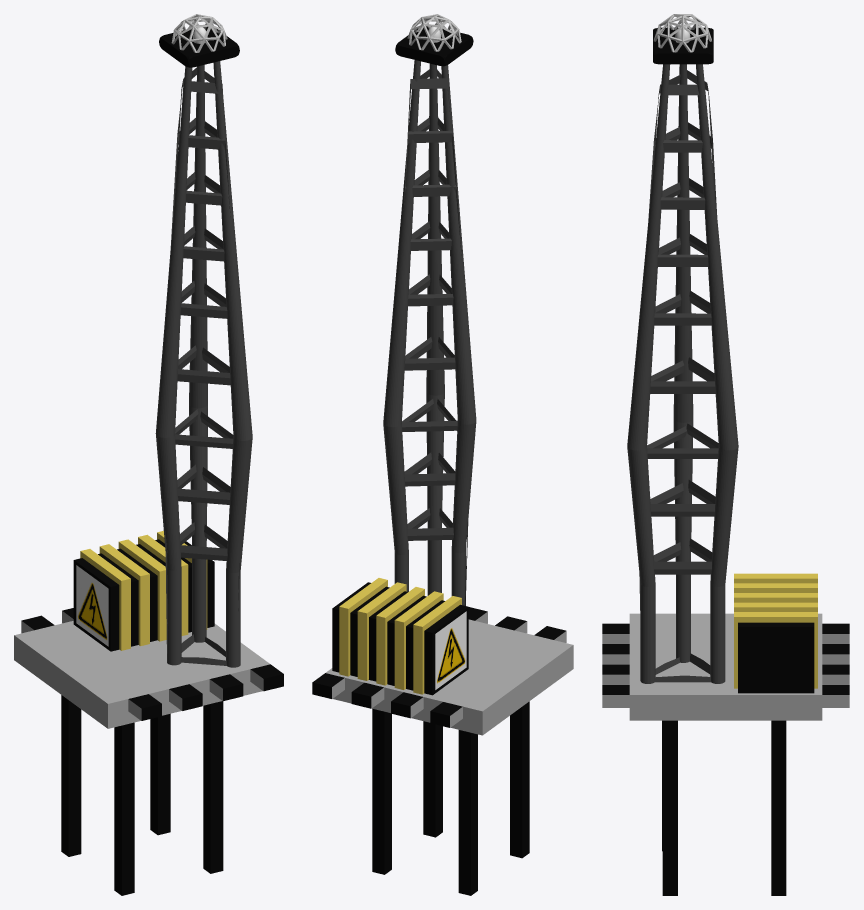
The model's file is tower.glb.
3 renders of one model, left to right at view 1: azimuth 30°, elevation 25°; view 2: azimuth 150°, elevation 25°; view 3: azimuth 270°, elevation 25°, orthographic. The views are drawn at different scales.
Visible parts, largest first — view 1: Plane.006, Plane.003, Cube.013, Cube.012, Cube.011, Cube.008, Cube.010, Cube.009, danger; view 2: Plane.006, Plane.003, Cube.013, Cube.012, Cube.009, Cube.010, Cube.011, Cube.008, danger; view 3: Plane.006, Plane.003, Cube.012, Cube.013, Cube.008, Cube.009.
Part boxes in pixels (x1,y1,x2,y2): Plane.006: (155,14,252,667); Plane.003: (14,608,283,728); Cube.013: (80,531,207,650); Cube.012: (73,539,214,651); Cube.011: (114,722,134,895); Cube.008: (203,701,223,873); Cube.010: (61,695,81,856); Cube.009: (150,713,170,835); danger: (76,565,108,646); Plane.006: (383,14,476,605); Plane.003: (312,607,573,735); Cube.013: (339,578,461,694); Cube.012: (332,582,468,695); Cube.009: (372,708,391,874); Cube.010: (458,730,477,895); Cube.011: (510,701,529,858); Cube.008: (423,721,442,837); danger: (435,611,466,689); Plane.006: (627,14,738,683); Plane.003: (602,613,849,720); Cube.012: (738,622,814,693); Cube.013: (734,573,817,688); Cube.008: (662,720,677,895); Cube.009: (771,720,786,895).
Bounding box in the file's own units: 25.5 × 127 × 32.67.
Materials: 10 (1 with a texture image).
